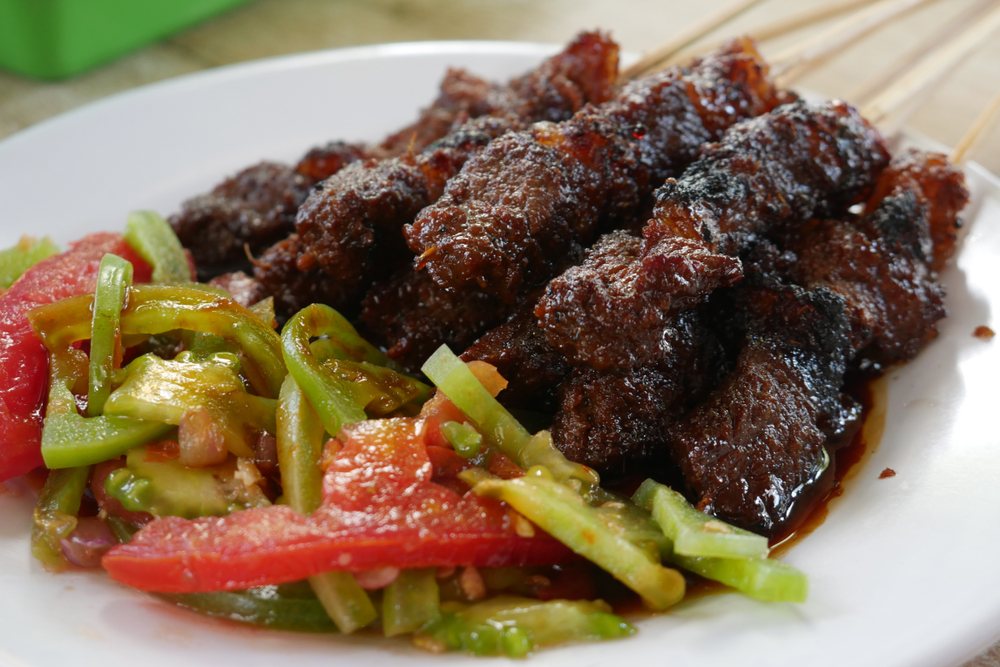sate: (46, 8, 979, 593)
